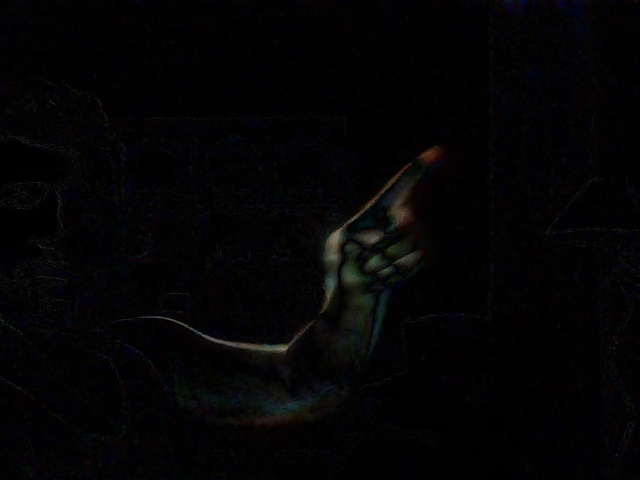hand_po: (307, 140, 442, 315)
